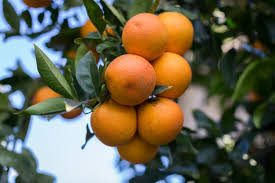orange: (103, 54, 159, 107), (91, 101, 139, 148), (121, 12, 167, 60), (135, 100, 185, 141), (156, 53, 193, 96), (159, 11, 198, 51), (119, 136, 156, 164)
